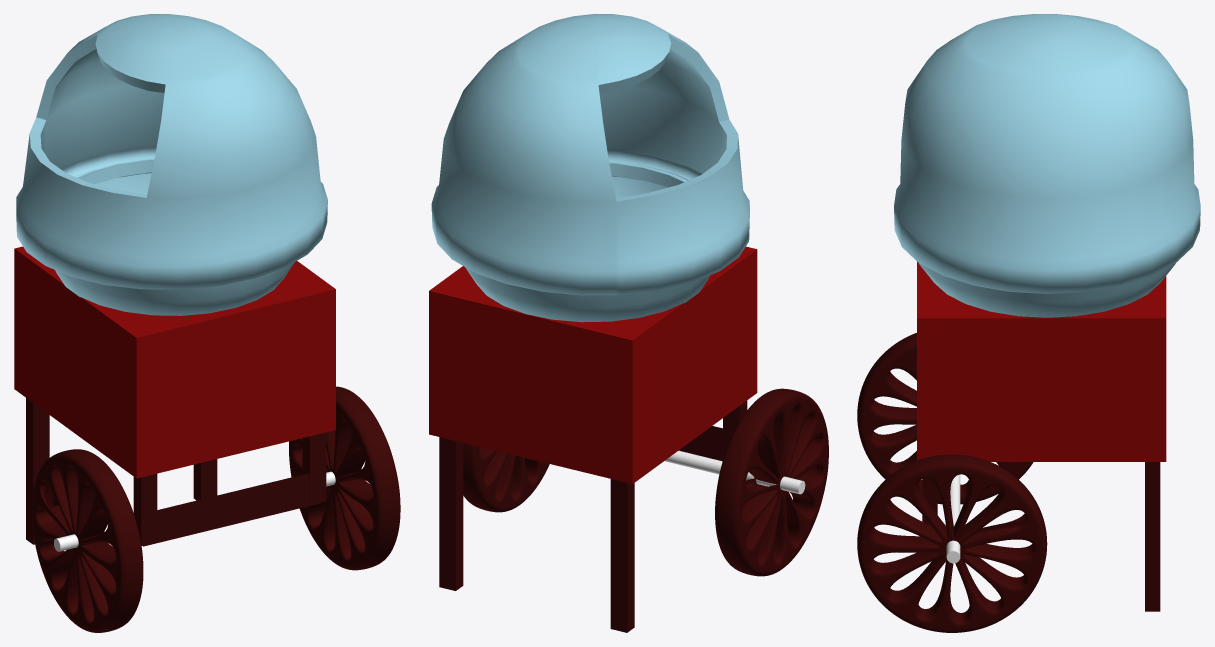
File: Zuckerwattekanone.fbx
The picture shows the model from 3 angles, left to right: view 1: azimuth 30°, elevation 25°; view 2: azimuth 150°, elevation 25°; view 3: azimuth 270°, elevation 25°; orthographic projection. The views are drawn at different scales.
Parts seen in each view (by area): view 1: Sphere002, Box001, Cylinder004, Cylinder002, Plane001, Box002, Box008, Box007, Box006; view 2: Sphere002, Box001, Cylinder004, Cylinder002, Box002, Box006, Cylinder003, Plane001, Box008; view 3: Sphere002, Box001, Cylinder002, Cylinder004, Box006, Cylinder003.
Part boxes in pixels (bbox=[...]): Sphere002: bbox=[16, 14, 327, 315]; Box001: bbox=[14, 246, 335, 478]; Cylinder004: bbox=[31, 449, 143, 632]; Cylinder002: bbox=[289, 386, 400, 570]; Plane001: bbox=[143, 473, 320, 546]; Box002: bbox=[26, 398, 49, 544]; Box008: bbox=[133, 473, 157, 545]; Box007: bbox=[302, 432, 326, 504]; Box006: bbox=[193, 459, 217, 500]; Sphere002: bbox=[431, 14, 749, 322]; Box001: bbox=[429, 246, 757, 483]; Cylinder004: bbox=[715, 388, 828, 576]; Cylinder002: bbox=[463, 443, 549, 512]; Box002: bbox=[610, 479, 634, 632]; Box006: bbox=[439, 437, 463, 590]; Cylinder003: bbox=[664, 450, 805, 494]; Plane001: bbox=[679, 426, 722, 461]; Box008: bbox=[723, 400, 747, 459]; Sphere002: bbox=[894, 14, 1200, 317]; Box001: bbox=[917, 262, 1166, 461]; Cylinder002: bbox=[857, 454, 1047, 632]; Cylinder004: bbox=[857, 333, 1033, 504]; Box006: bbox=[1145, 462, 1160, 611]; Cylinder003: bbox=[946, 474, 960, 563].
Bounding box in the file's own units: 265 × 416 × 241.
